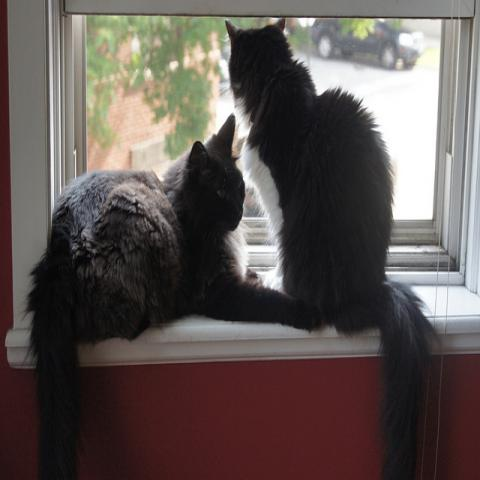car: (313, 16, 424, 68)
